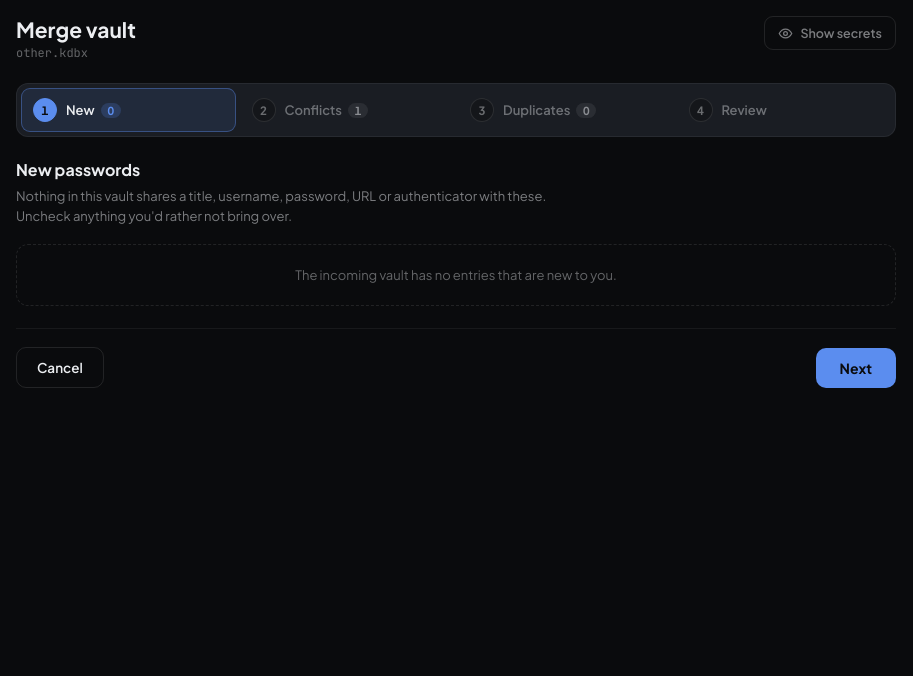
Scenario: MergeWizardScreen › step 2 — conflicts › collapses agreeing fields to one row and splits only the differences
The image size is (913, 676).
Click the button "2 Conflicts 1": {"x": 347, "y": 110} left=240, top=88, right=454, bottom=132
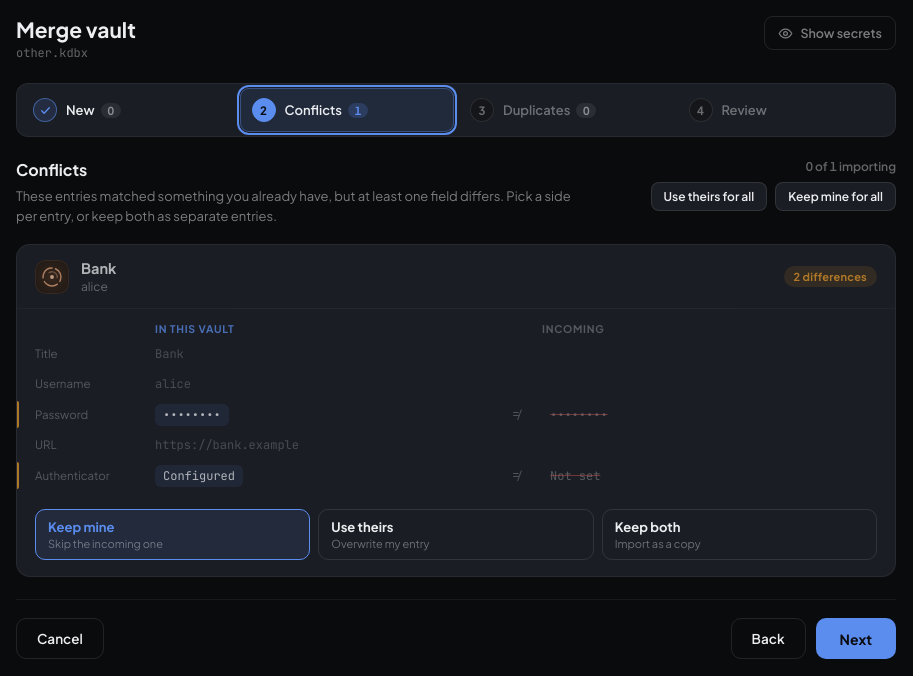
Expected: the number of elements with class "same" is 3, left=35, top=346, right=184, bottom=362; left=35, top=376, right=191, bottom=392; left=35, top=437, right=299, bottom=453
Expected: the element with class "same" reads "Title Bank", left=35, top=346, right=184, bottom=362
Expected: the number of elements with class "differs" is 2, left=35, top=404, right=608, bottom=426; left=35, top=465, right=600, bottom=487
